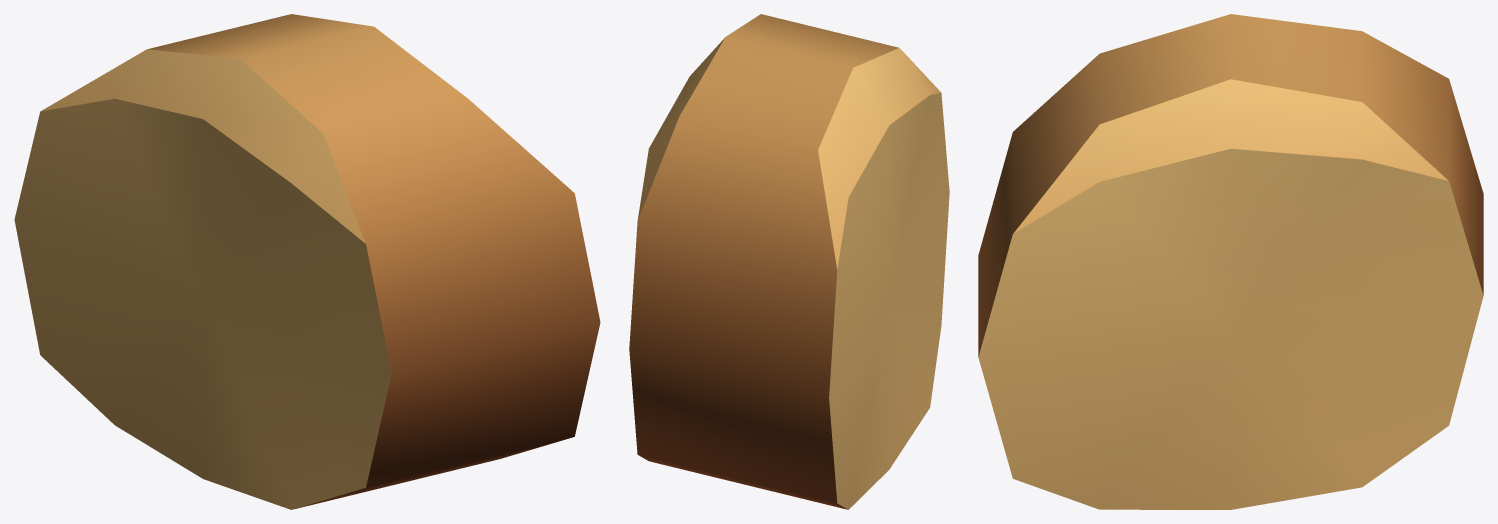
File: Baguette_Slice.glb
3 views of the same model, side by side, from view 1: azimuth 30°, elevation 25°; view 2: azimuth 150°, elevation 25°; view 3: azimuth 270°, elevation 25° (orthographic). The views are drawn at different scales.
Parts seen in each view (by area): view 1: Baguette_Slice; view 2: Baguette_Slice; view 3: Baguette_Slice.
Boxes of the visible parts, bbox=[...] form: Baguette_Slice: bbox=[14, 14, 600, 509]; Baguette_Slice: bbox=[629, 14, 949, 509]; Baguette_Slice: bbox=[978, 14, 1483, 509].
Bounding box in the file's own units: 0.1919 × 0.2252 × 0.2501.
Materials: 1 (1 with a texture image).
